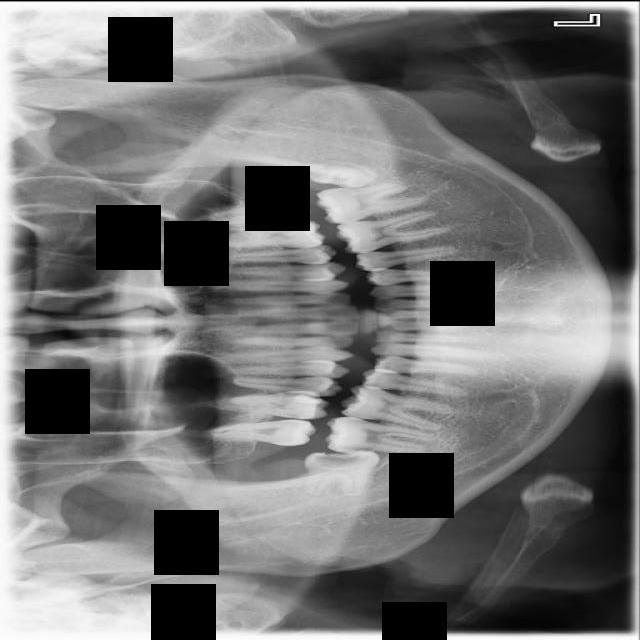52: (279, 390, 327, 419), (288, 391, 319, 397), (323, 453, 349, 459), (353, 446, 372, 451)
73: (545, 27, 554, 31)
BioHorizons Implant: (211, 193, 310, 228)
Biomet 3i Implant: (305, 161, 375, 187)
Blue Sky Bio Implant: (315, 178, 430, 225)
Caries: (206, 417, 319, 451)
Implant: (325, 416, 436, 452)
Keystone Dental Implant: (300, 447, 382, 500)
